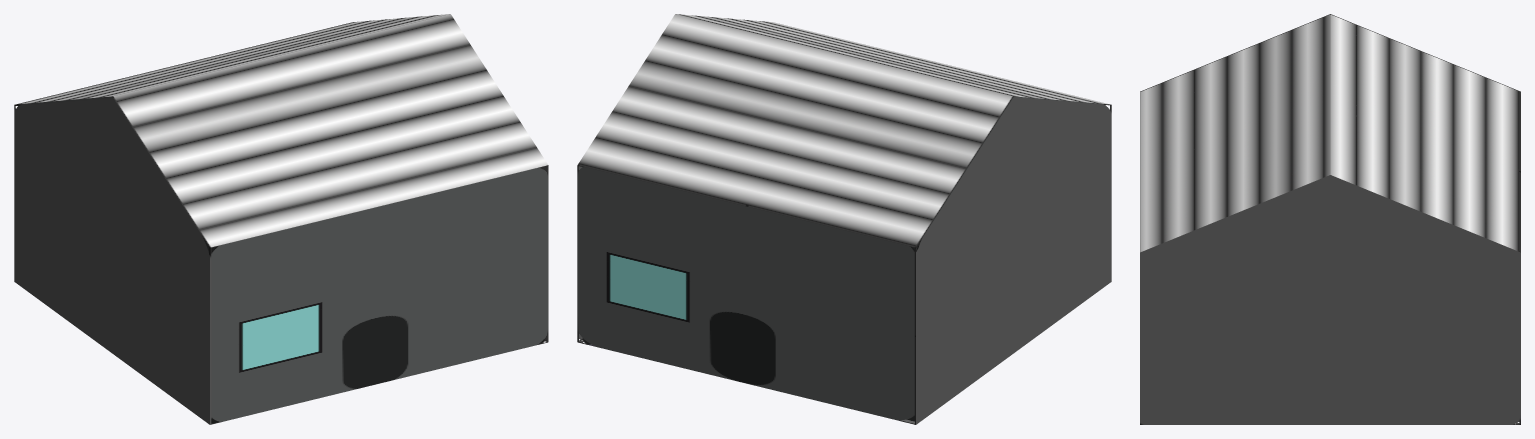
The model's file is BasicBuildingShape.fbx.
3 renders of one model, left to right at view 1: azimuth 30°, elevation 25°; view 2: azimuth 150°, elevation 25°; view 3: azimuth 270°, elevation 25°, orthographic. The views are drawn at different scales.
Parts seen in each view (by area): view 1: Cube; view 2: Cube; view 3: Cube.
Boxes of the visible parts, x1,y1,x2,y2 form: Cube: (14,14,548,424); Cube: (577,14,1111,424); Cube: (1140,14,1520,424).
Bounding box in the file's own units: 200 × 145 × 200.
